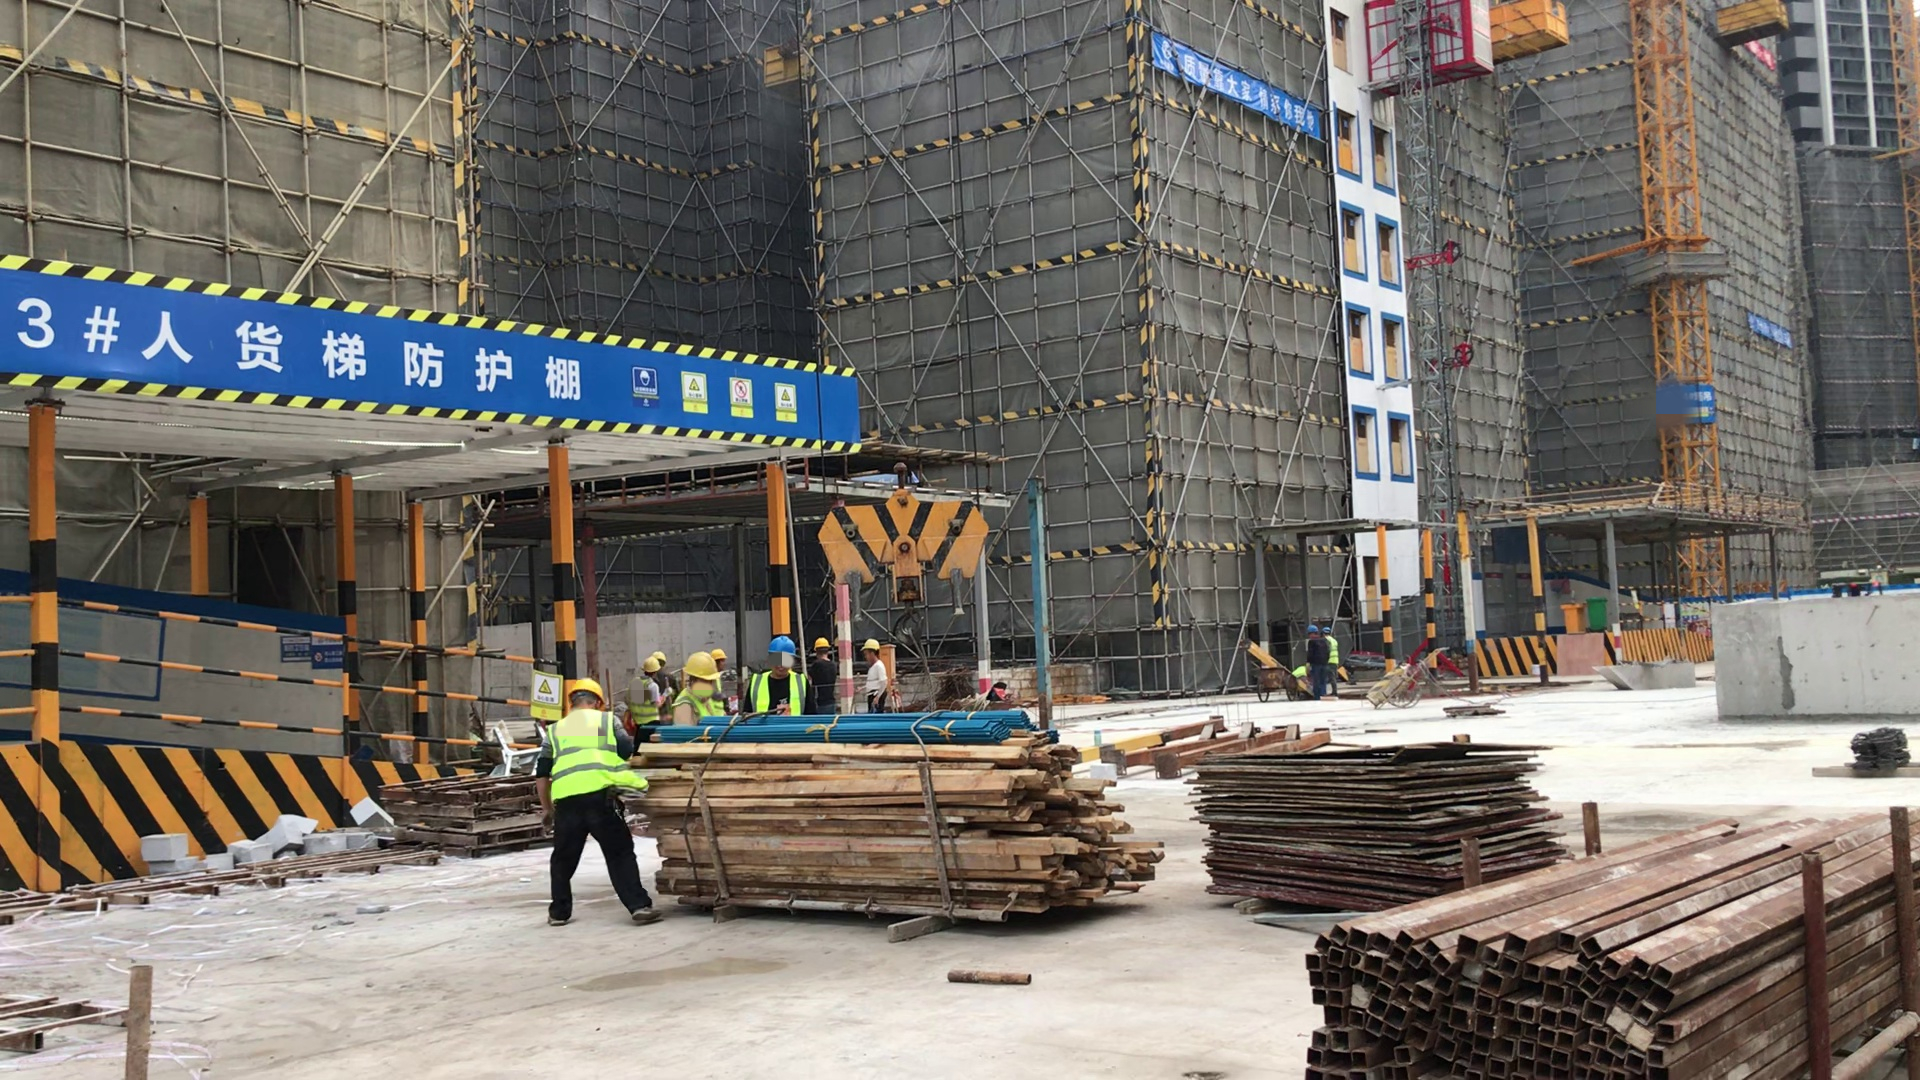board: (1198, 749, 1565, 899)
ebox: (1559, 597, 1588, 638), (878, 646, 898, 700)
handcart: (1370, 666, 1421, 706), (1255, 666, 1296, 700)
helmet: (684, 653, 719, 680), (568, 678, 604, 703), (767, 636, 796, 656), (642, 658, 661, 672), (861, 638, 880, 651), (712, 649, 724, 659), (1305, 625, 1319, 634), (814, 639, 828, 647), (653, 651, 665, 661)
hook: (817, 469, 990, 646)
hopper: (1596, 660, 1697, 687)
person: (539, 681, 659, 926), (746, 639, 804, 724), (674, 654, 727, 727), (629, 657, 666, 742), (811, 639, 837, 720), (861, 639, 888, 719), (1305, 626, 1329, 704), (1328, 631, 1339, 695)
scaffold: (1319, 824, 1916, 1080)
slogan: (1152, 35, 1324, 134), (625, 362, 801, 427), (1748, 314, 1800, 349), (529, 670, 562, 722)
vest: (551, 714, 646, 801), (750, 668, 809, 716), (626, 678, 658, 724), (676, 692, 724, 719), (1324, 636, 1338, 663)
wood: (654, 743, 1158, 927)
